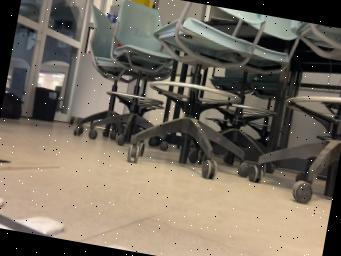street: (0, 214, 53, 237), (0, 214, 53, 237), (0, 214, 53, 237), (0, 214, 53, 237), (0, 214, 53, 237), (0, 214, 53, 237)
